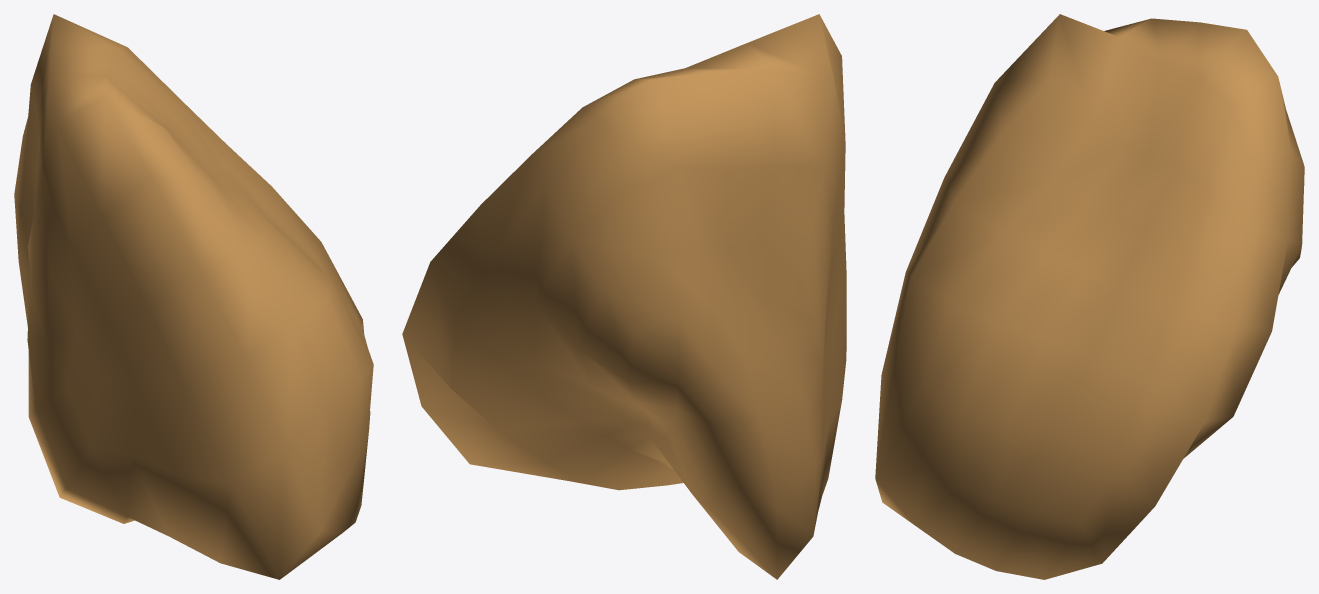
File: coxa_T3_right_leg.obj
3 views of the same model, side by side, from view 1: azimuth 30°, elevation 25°; view 2: azimuth 150°, elevation 25°; view 3: azimuth 270°, elevation 25° (orthographic). The views are drawn at different scales.
Bounding box in the file's own units: 0.0156 × 0.0212 × 0.018.
